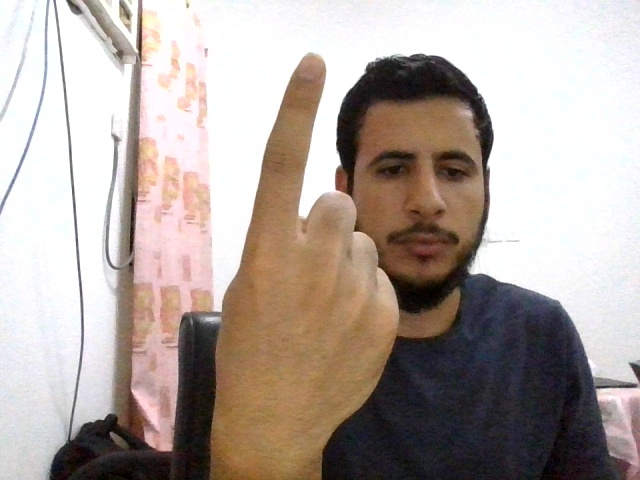One: (217, 53, 400, 425)
